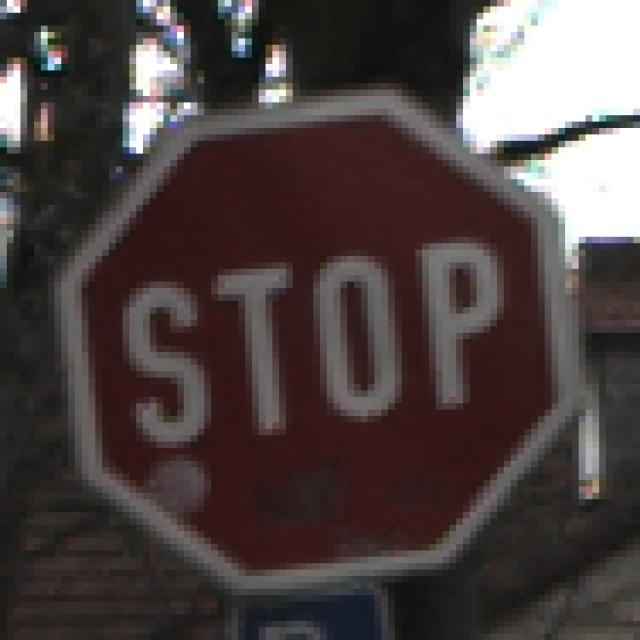STOP: (56, 59, 587, 590)
